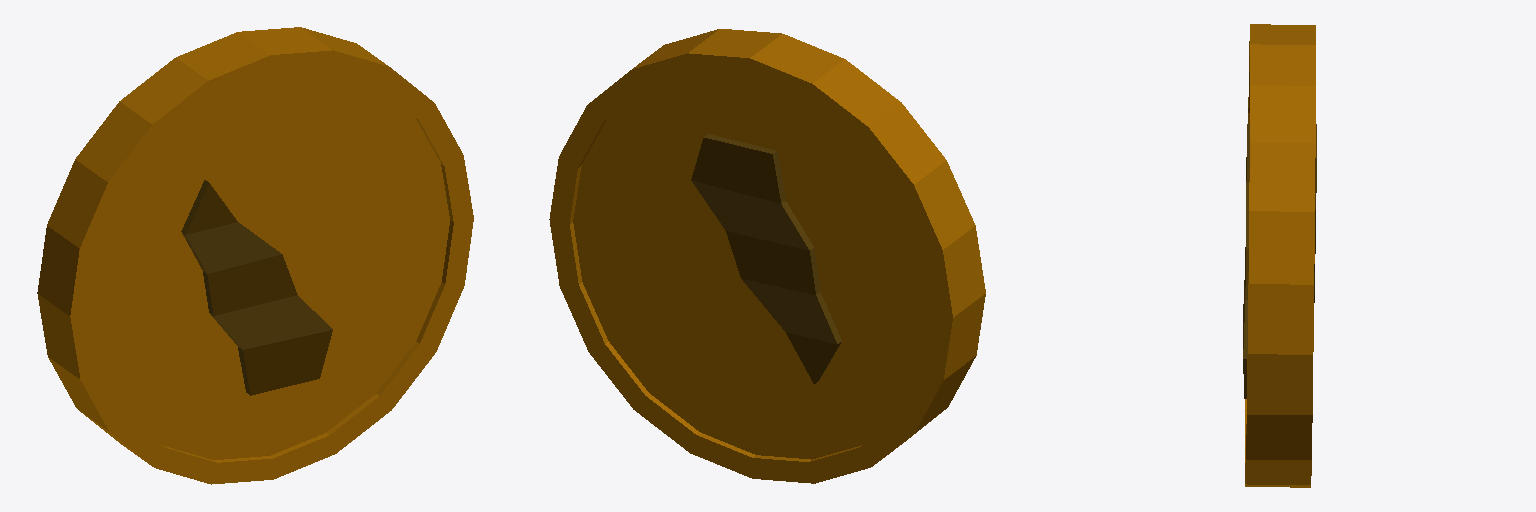
File: coin.obj
The picture shows the model from 3 angles: view 1: azimuth 30°, elevation 25°; view 2: azimuth 150°, elevation 25°; view 3: azimuth 270°, elevation 25°; orthographic projection.
Size of the model in its own units: 15.39 by 15.41 by 2.44.